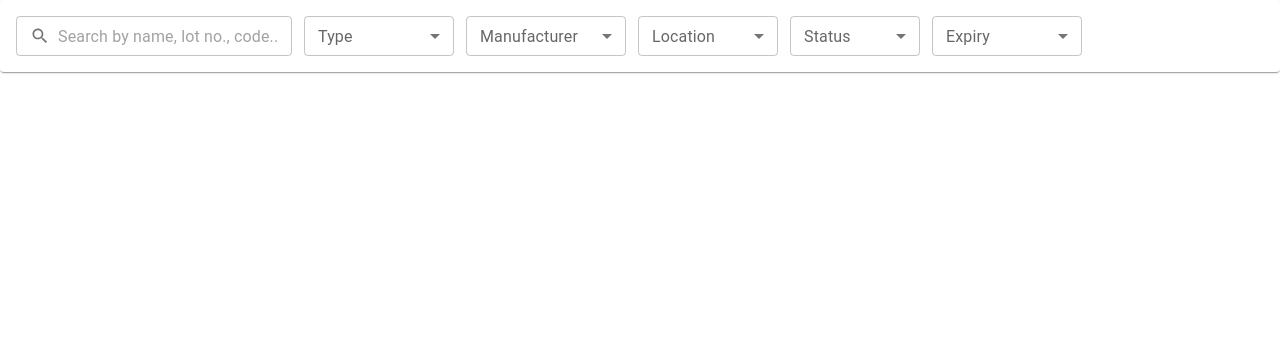
it: MaterialFilterBar › shows 'Primary Standard' and not 'Dehydrated Media' when type-options returns the FP list
The width and height of the screenshot is (1280, 354).
// Open the Type select dropdown
Click the dropdown named "Type" next to "Type" at x=379, y=36, box [304,16,454,56]
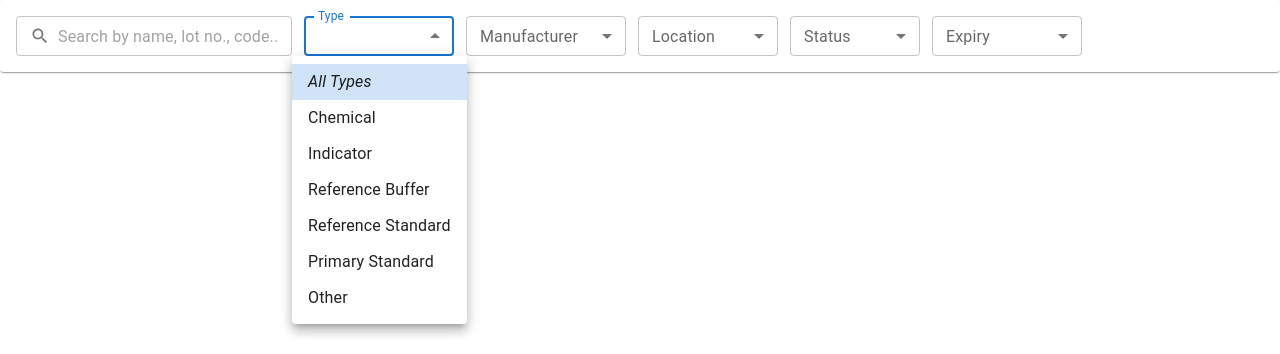
Check: the option "Primary Standard" is shown, box [308,252,434,271]
